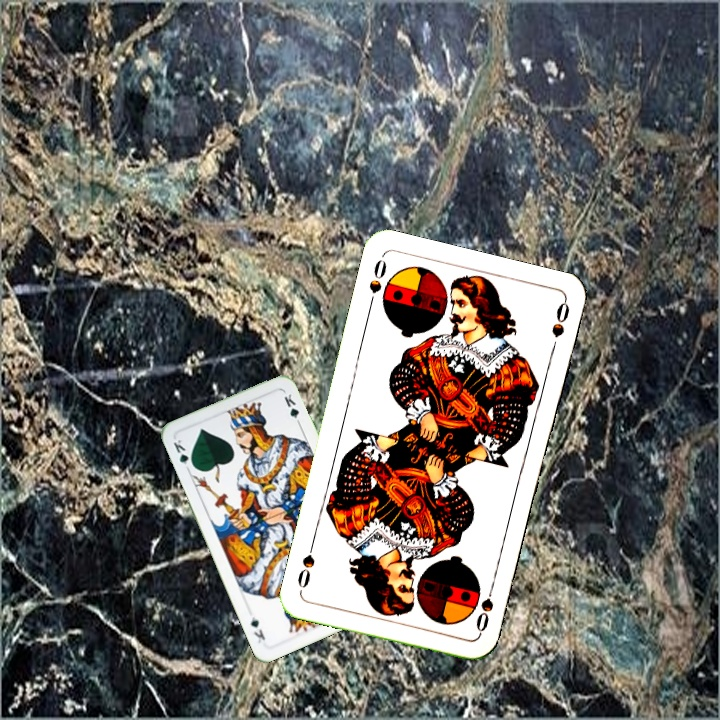GK: (169, 435, 197, 474)
SO: (472, 578, 498, 637), (364, 253, 389, 311)
